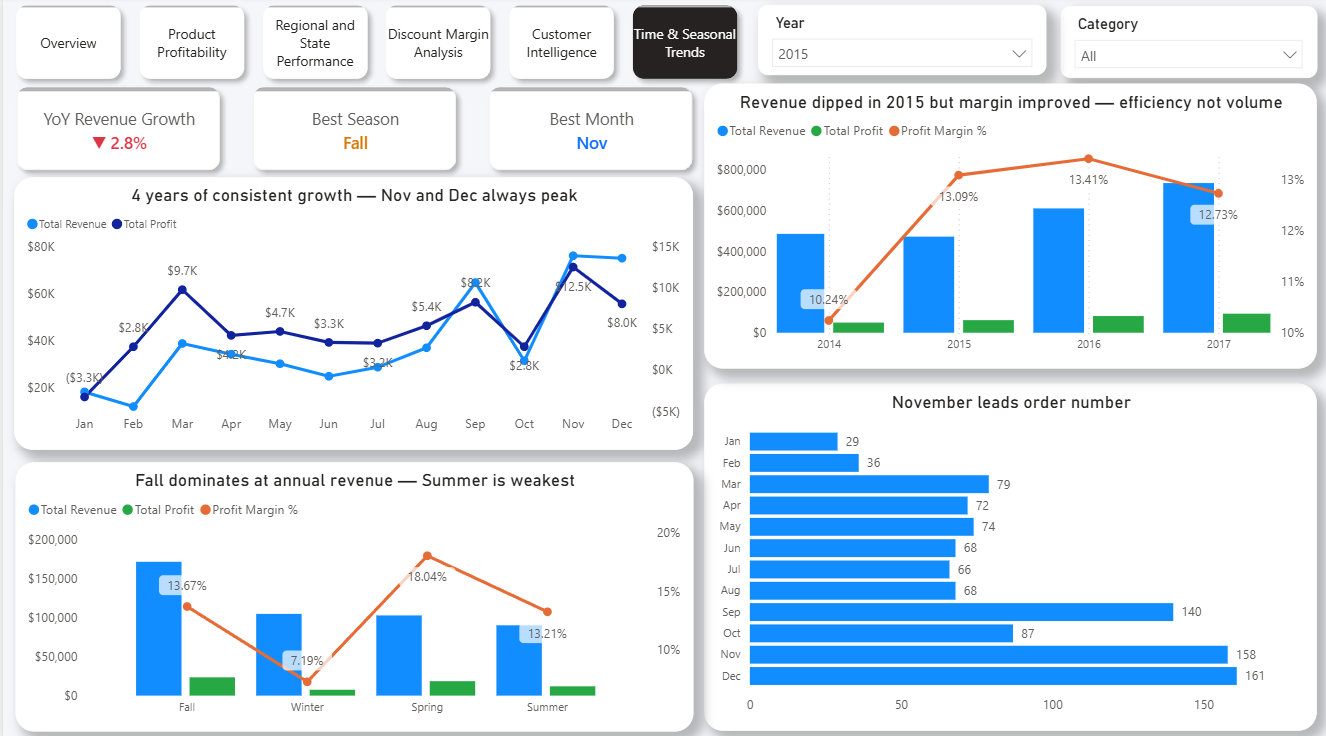

The dashboard page shown, as its layout file describes it:
{"tool":"powerbi","page":{"name":"Time & Seasonal Trends","canvas":[1280,720],"ordinal":5},"visuals":[{"type":"slicer","fields":{"Values":["superstore_clean.Category"]},"box":[1020.1,9.7,247.7,69.6],"z":0},{"type":"slicer","title":"YE","fields":{"Values":["superstore_clean.Order_Year"]},"box":[729.2,8.3,278.3,68.2],"z":1000},{"type":"pageNavigator","box":[4.1,0,716.3,89.2],"z":2000},{"type":"cardVisual","fields":{"Data":["Measures (2).YoY Revenue Growth","Measures (2).Best Season","Measures (2).Best Month"]},"box":[1.4,75.5,676.5,104.3],"z":3000},{"type":"lineChart","title":"4 years of consistent growth — Nov and Dec always peak","fields":{"Category":["superstore_clean.Order_Month_Name"],"Y":["Measures (2).Total Revenue"],"Y2":["Measures (2).Total Profit"]},"box":[11.1,175.3,655.4,263],"z":4000},{"type":"clusteredBarChart","title":"November leads order number ","fields":{"Category":["superstore_clean.Order_Month_Name"],"Y":["Measures (2).Total Orders"]},"box":[676.3,374.3,591.4,335.4],"z":5000},{"type":"lineClusteredColumnComboChart","title":"Revenue dipped in 2015 but margin improved — efficiency not volume","fields":{"Category":["superstore_clean.Order_Year"],"Y":["Measures (2).Total Revenue","Measures (2).Total Profit"],"Y2":["Measures (2).Profit Margin %"]},"box":[676.3,84.9,591.4,275.5],"z":6000},{"type":"lineClusteredColumnComboChart","title":"Fall dominates at annual revenue — Summer is weakest","fields":{"Category":["superstore_clean.Season"],"Y":["Measures (2).Total Revenue","Measures (2).Total Profit"],"Y2":["Measures (2).Profit Margin %"]},"box":[12.5,449.5,654.1,260.2],"z":7000}]}

Visuals, with their boxes in screenshot pixels (x1, y1, x2, y2), scaled from the page's 1280x720 canvas onto the 1326x736 screenshot:
slicer - superstore_clean.Category: (left=1057, top=10, right=1313, bottom=81)
"YE" slicer: (left=755, top=8, right=1044, bottom=78)
pageNavigator: (left=4, top=0, right=746, bottom=91)
cardVisual - Measures (2).YoY Revenue Growth x Measures (2).Best Season: (left=1, top=77, right=702, bottom=184)
"4 years of consistent growth — Nov and Dec always peak" lineChart: (left=11, top=179, right=690, bottom=448)
"November leads order number " clusteredBarChart: (left=701, top=383, right=1313, bottom=725)
"Revenue dipped in 2015 but margin improved — efficiency not volume" lineClusteredColumnComboChart: (left=701, top=87, right=1313, bottom=368)
"Fall dominates at annual revenue — Summer is weakest" lineClusteredColumnComboChart: (left=13, top=459, right=691, bottom=725)
